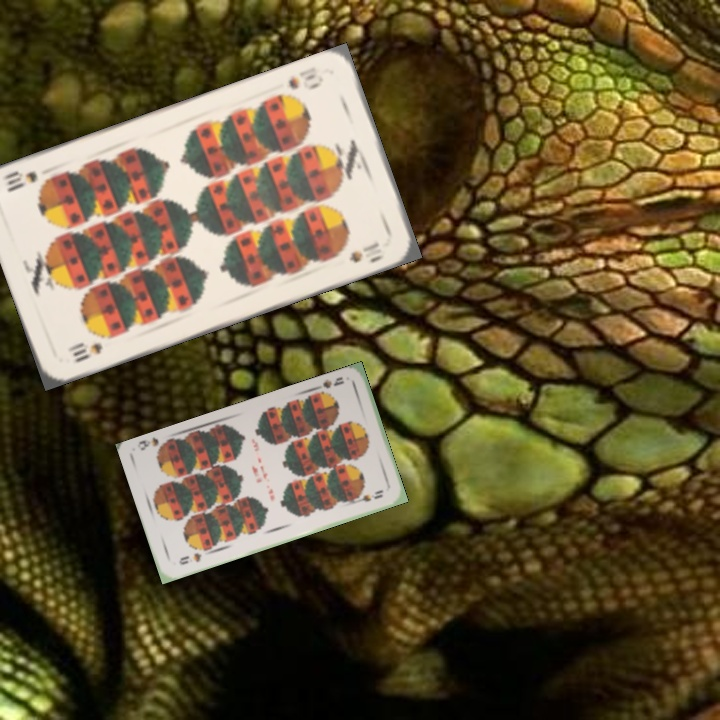S10: (284, 63, 326, 92), (63, 339, 105, 365)
S9: (310, 373, 347, 399), (175, 549, 204, 568)
